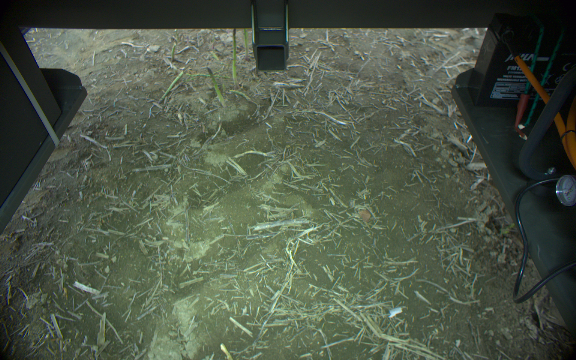aspa: (157, 67, 183, 109), (203, 66, 226, 110), (226, 28, 240, 92), (165, 40, 178, 67), (241, 30, 251, 59)
